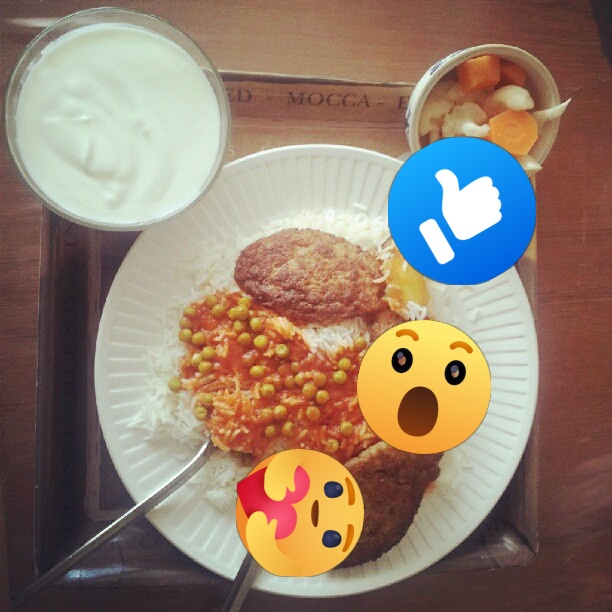care: (236, 449, 364, 577)
like: (388, 137, 536, 285)
wow: (357, 320, 491, 454)
